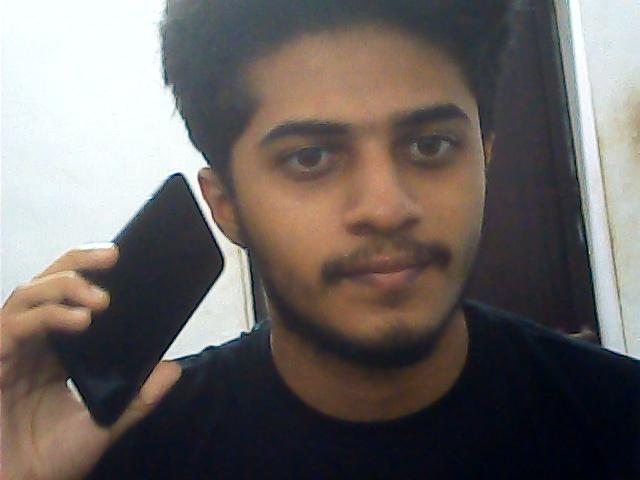PhoneUse: (40, 157, 228, 427)
SafeDriving: (388, 112, 472, 176), (266, 129, 357, 183)
